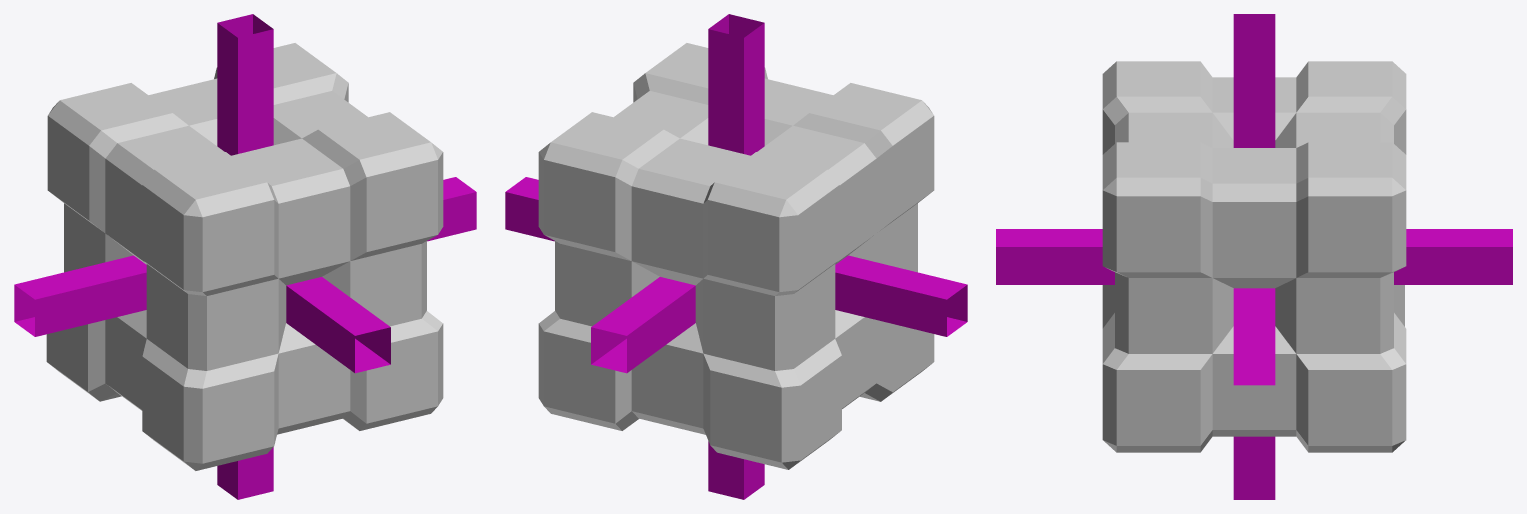
Rendered from hiper-cube.fbx.
3 views of the same model, side by side, from view 1: azimuth 30°, elevation 25°; view 2: azimuth 150°, elevation 25°; view 3: azimuth 270°, elevation 25° (orthographic).
Parts seen in each view (by area): view 1: HiperCubeDrifter; view 2: HiperCubeDrifter; view 3: HiperCubeDrifter.
Boxes of the visible parts, x1,y1,x2,y2 form: HiperCubeDrifter: (14,14,476,499); HiperCubeDrifter: (505,14,967,499); HiperCubeDrifter: (996,14,1512,499).
Bounding box in the file's own units: 370 × 370 × 370.
